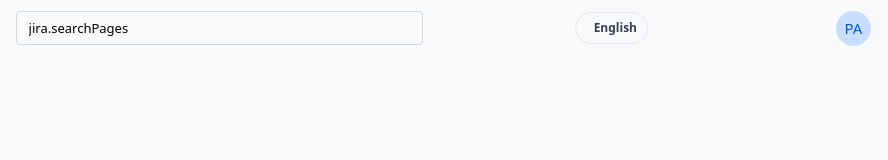
Test: Platform navigation search › finds a destination, shows empty results, and dismisses with Escape
The width and height of the screenshot is (888, 160).
In the field labelled "jira.searchPages": (219, 28) [29, 13, 410, 43], type "users"
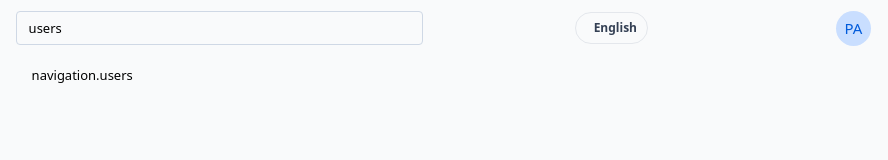
Replace the text in the field named "jira.searchPages" with "unmatched": (219, 28) [29, 13, 410, 43]
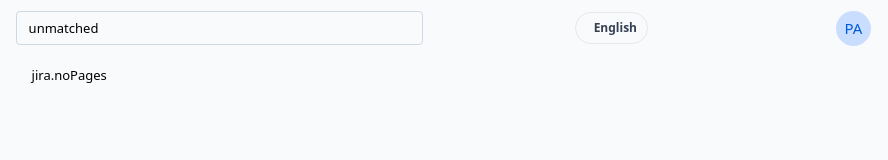
Check: the text "jira.noPages" is shown, box [32, 66, 107, 84]
Press Escape in the field named "jira.searchPages", box [29, 13, 410, 43]
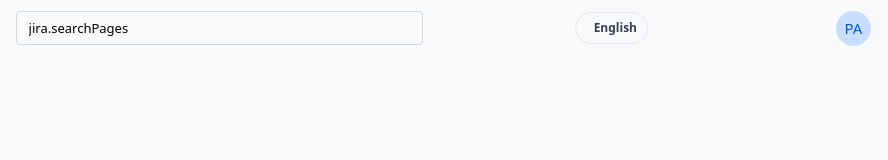
Check: the field labelled "jira.searchPages" is empty, box [29, 13, 410, 43]
Check: the text "jira.noPages" is gone
